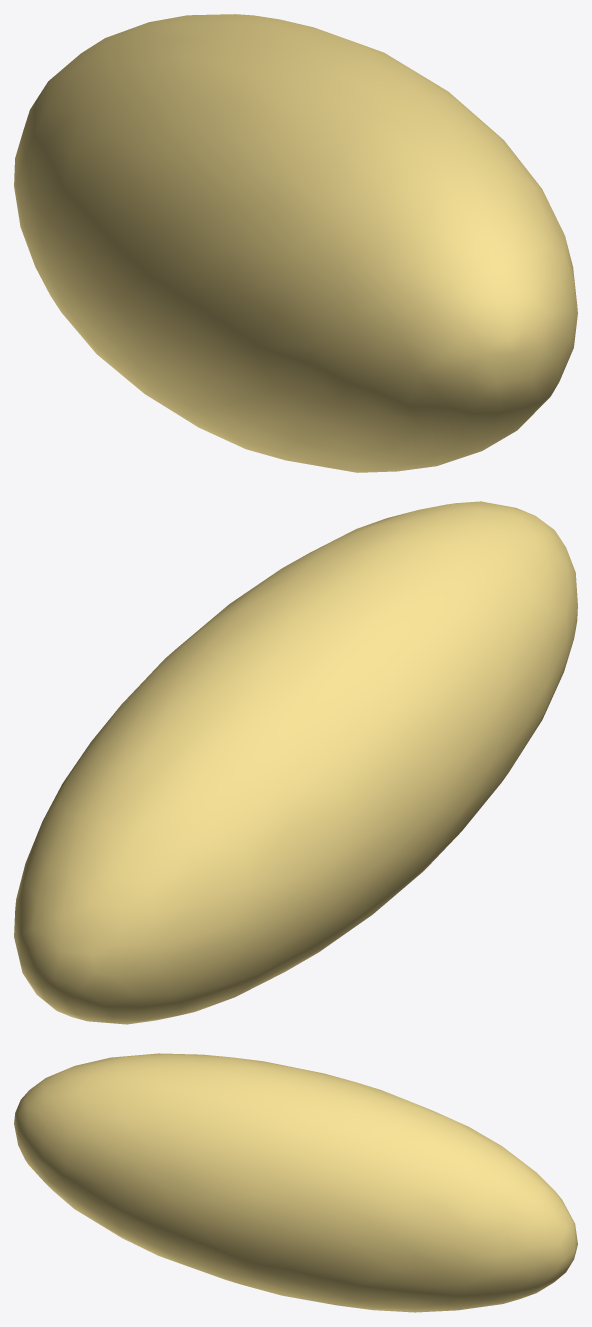
Rendered from fma223177_mm2996.glb.
3 views of the same model, one above another, from view 1: azimuth 30°, elevation 25°; view 2: azimuth 150°, elevation 25°; view 3: azimuth 270°, elevation 25° (orthographic). The views are drawn at different scales.
Parts seen in each view (by area): view 1: FMA223177_MM2996; view 2: FMA223177_MM2996; view 3: FMA223177_MM2996.
Boxes of the visible parts, box(x1,y1,x2,y2) form: FMA223177_MM2996: box(14, 14, 577, 472); FMA223177_MM2996: box(14, 501, 577, 1024); FMA223177_MM2996: box(14, 1053, 577, 1312).
Size of the model in its own units: 0.00588 by 0.00632 by 0.0142.
